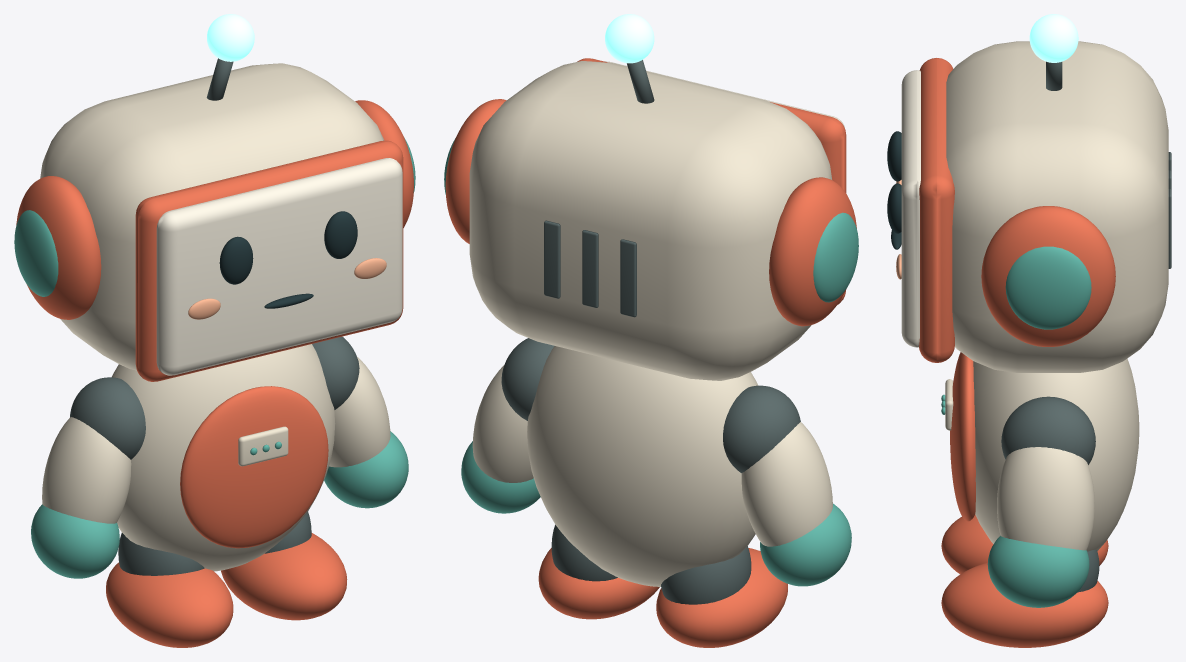
Rendered from mochi.glb.
3 renders of one model, left to right at view 1: azimuth 30°, elevation 25°; view 2: azimuth 150°, elevation 25°; view 3: azimuth 270°, elevation 25°, orthographic. The views are drawn at different scales.
Parts seen in each view (by area): view 1: Face plate, Head shell, Body, Belly panel, Face surround, Boot, Boot.001, Arm, Ear pod, Hand, Arm.001, Shoulder (+11 smaller); view 2: Head shell, Body, Arm, Ear pod, Boot, Shoulder, Arm.001, Hand, Boot.001, Leg, Ear pod.001, Ear cushion (+9 smaller); view 3: Head shell, Body, Ear pod.001, Face surround, Arm.001, Boot.001, Ear cushion.001, Hand.001, Face plate, Shoulder.001, Belly panel, Boot (+5 smaller).
Part boxes in pixels (bbox=[...]): Face plate: bbox=[156, 158, 402, 375]; Head shell: bbox=[40, 63, 384, 370]; Body: bbox=[112, 344, 335, 571]; Belly panel: bbox=[180, 386, 328, 548]; Face surround: bbox=[135, 140, 403, 381]; Boot: bbox=[106, 562, 233, 647]; Boot.001: bbox=[221, 533, 347, 620]; Arm: bbox=[42, 417, 131, 523]; Ear pod: bbox=[16, 176, 101, 319]; Hand: bbox=[31, 504, 119, 578]; Arm.001: bbox=[329, 357, 390, 467]; Shoulder: bbox=[70, 377, 145, 459]; Head shell: bbox=[469, 61, 831, 380]; Body: bbox=[527, 346, 758, 586]; Arm: bbox=[741, 422, 832, 546]; Ear pod: bbox=[769, 177, 856, 326]; Boot: bbox=[656, 548, 787, 647]; Shoulder: bbox=[723, 385, 800, 472]; Arm.001: bbox=[472, 365, 533, 482]; Hand: bbox=[760, 503, 851, 586]; Boot.001: bbox=[538, 548, 659, 619]; Leg: bbox=[661, 546, 751, 604]; Ear pod.001: bbox=[445, 99, 506, 243]; Ear cushion: bbox=[813, 212, 858, 302]; Head shell: bbox=[946, 41, 1168, 372]; Body: bbox=[973, 358, 1139, 551]; Ear pod.001: bbox=[981, 206, 1115, 346]; Face surround: bbox=[919, 58, 954, 362]; Arm.001: bbox=[997, 447, 1094, 550]; Boot.001: bbox=[941, 562, 1108, 647]; Ear cushion.001: bbox=[1005, 246, 1091, 329]; Hand.001: bbox=[987, 535, 1089, 607]; Face plate: bbox=[901, 70, 920, 347]; Shoulder.001: bbox=[1001, 396, 1095, 464]; Belly panel: bbox=[950, 352, 975, 521]; Boot: bbox=[941, 514, 1108, 574].
Bounding box in the file's own units: 2.46 × 3.67 × 1.57.
